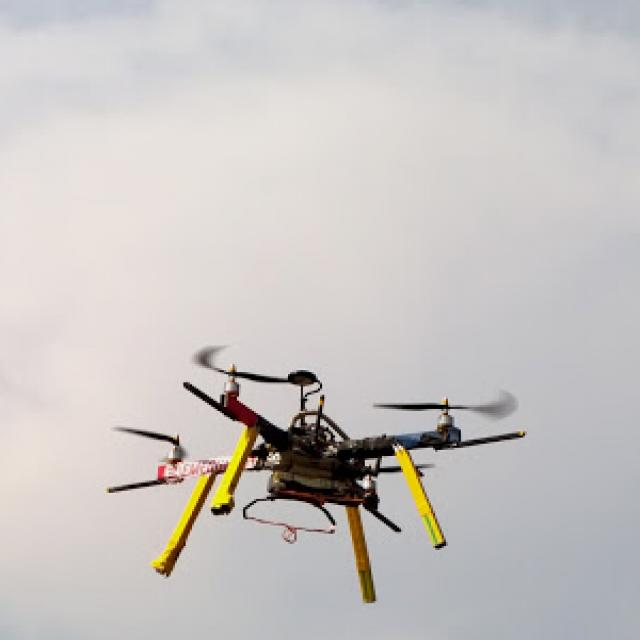drone: (45, 327, 542, 556)
